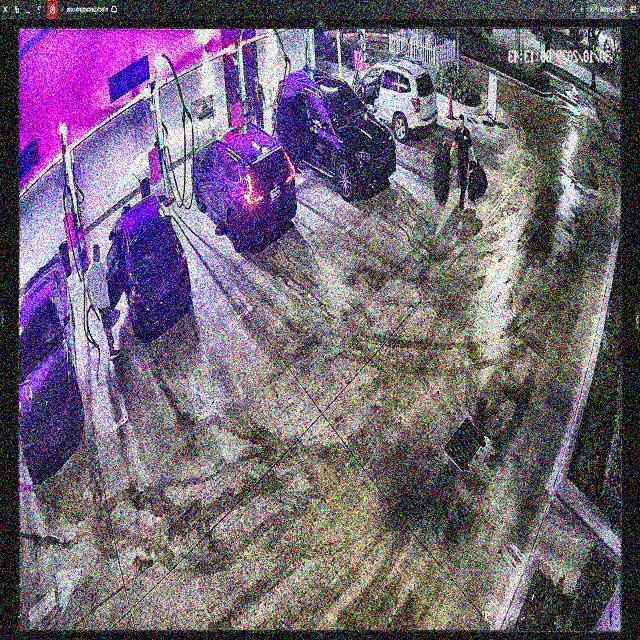Car: (270, 68, 394, 198), (100, 190, 201, 347), (192, 126, 298, 247), (338, 59, 440, 141)
